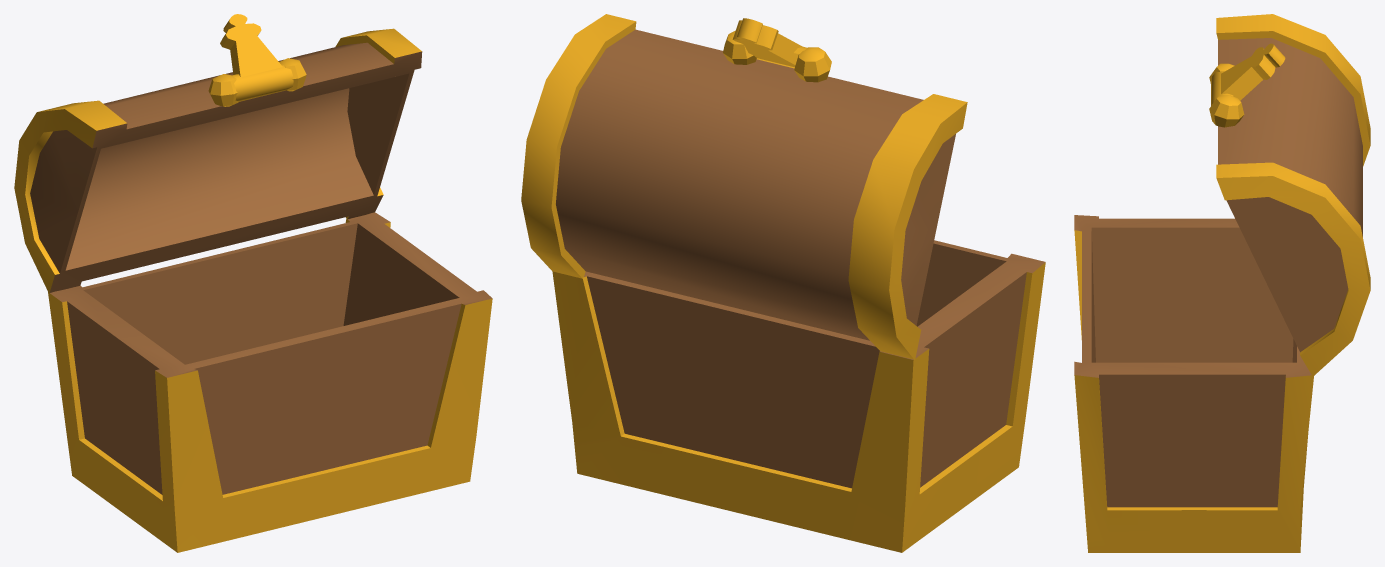
The model's file is Open Chest.fbx.
3 renders of one model, left to right at view 1: azimuth 30°, elevation 25°; view 2: azimuth 150°, elevation 25°; view 3: azimuth 270°, elevation 25°, orthographic. The views are drawn at different scales.
Visible parts, largest first — view 1: Cylinder_3; view 2: Cylinder_3; view 3: Cylinder_3.
Part boxes in pixels (bbox=[...]): Cylinder_3: bbox=[14, 14, 492, 552]; Cylinder_3: bbox=[521, 14, 1045, 552]; Cylinder_3: bbox=[1074, 14, 1370, 552].
Size of the model in its own units: 379 by 471 by 289.
